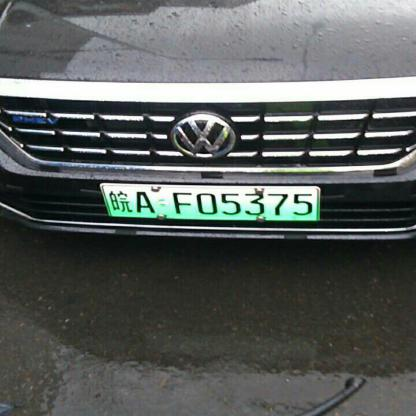lp: (102, 185, 317, 219)
